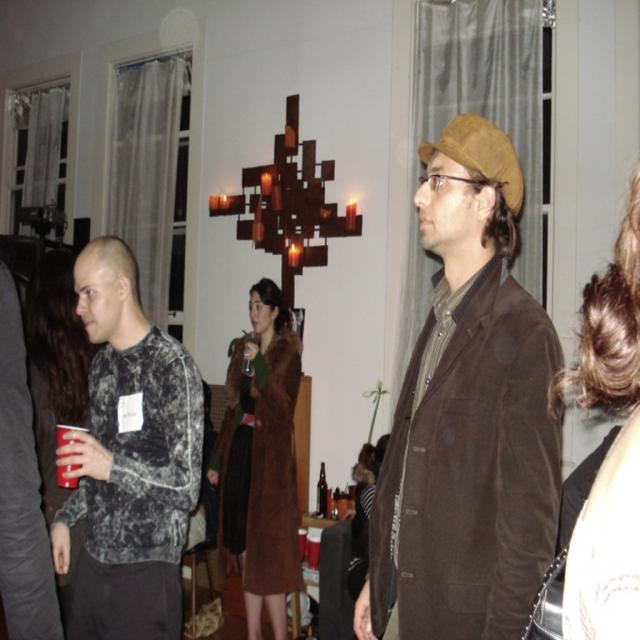Glasses: (418, 160, 512, 206)
